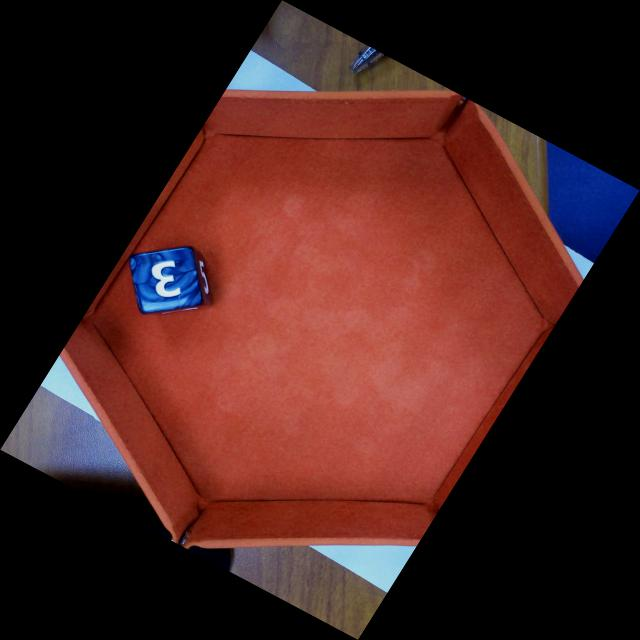dice: (128, 245, 204, 315)
